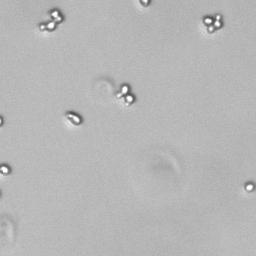budding: (36, 7, 66, 35), (63, 108, 85, 128)
cluster: (113, 83, 137, 108), (202, 12, 225, 36)
individual: (242, 181, 256, 194), (1, 163, 11, 177)
